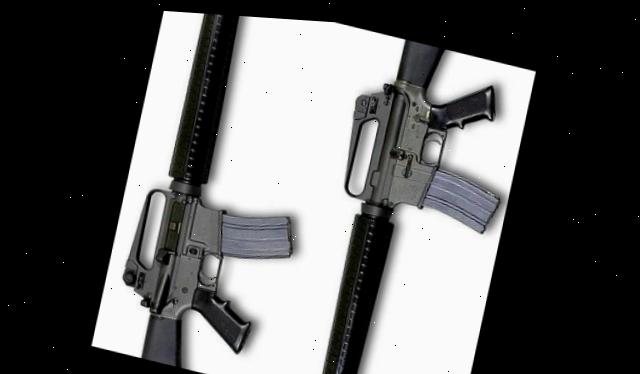rifle: (92, 5, 349, 374), (285, 20, 536, 374)
